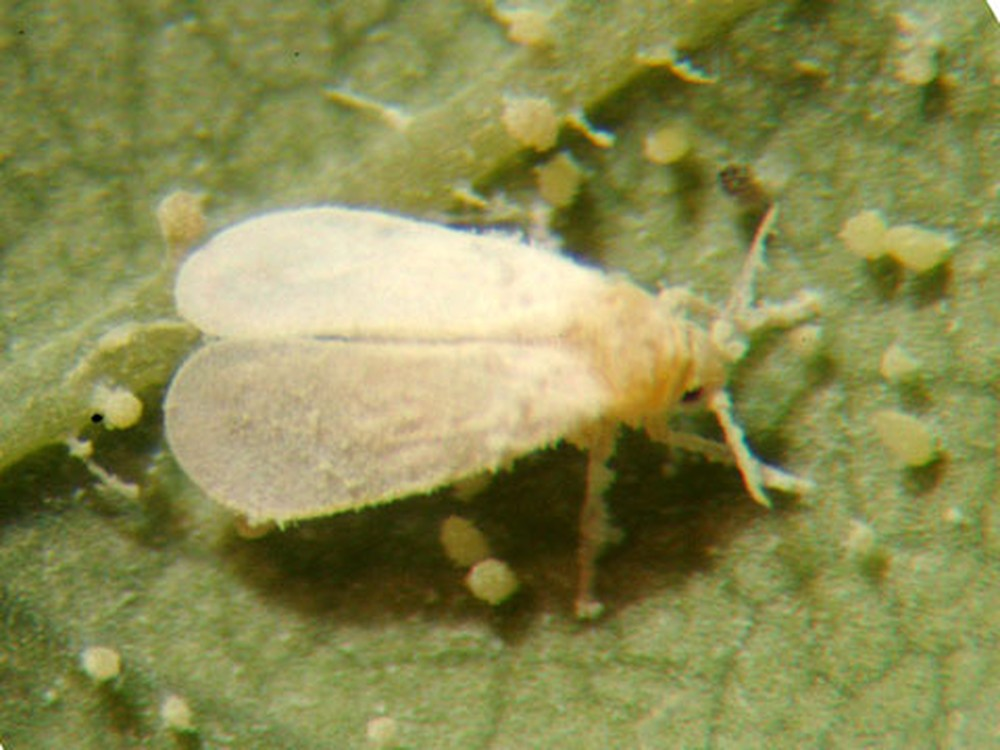Mosca Blanca: (143, 198, 830, 595)
